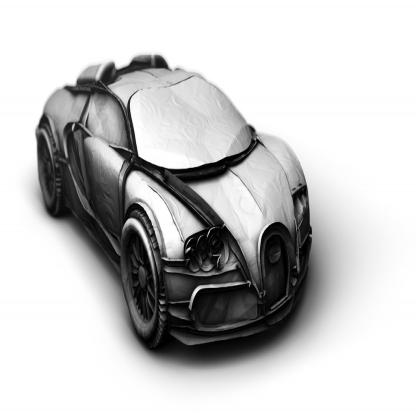Car: (34, 53, 312, 353)
